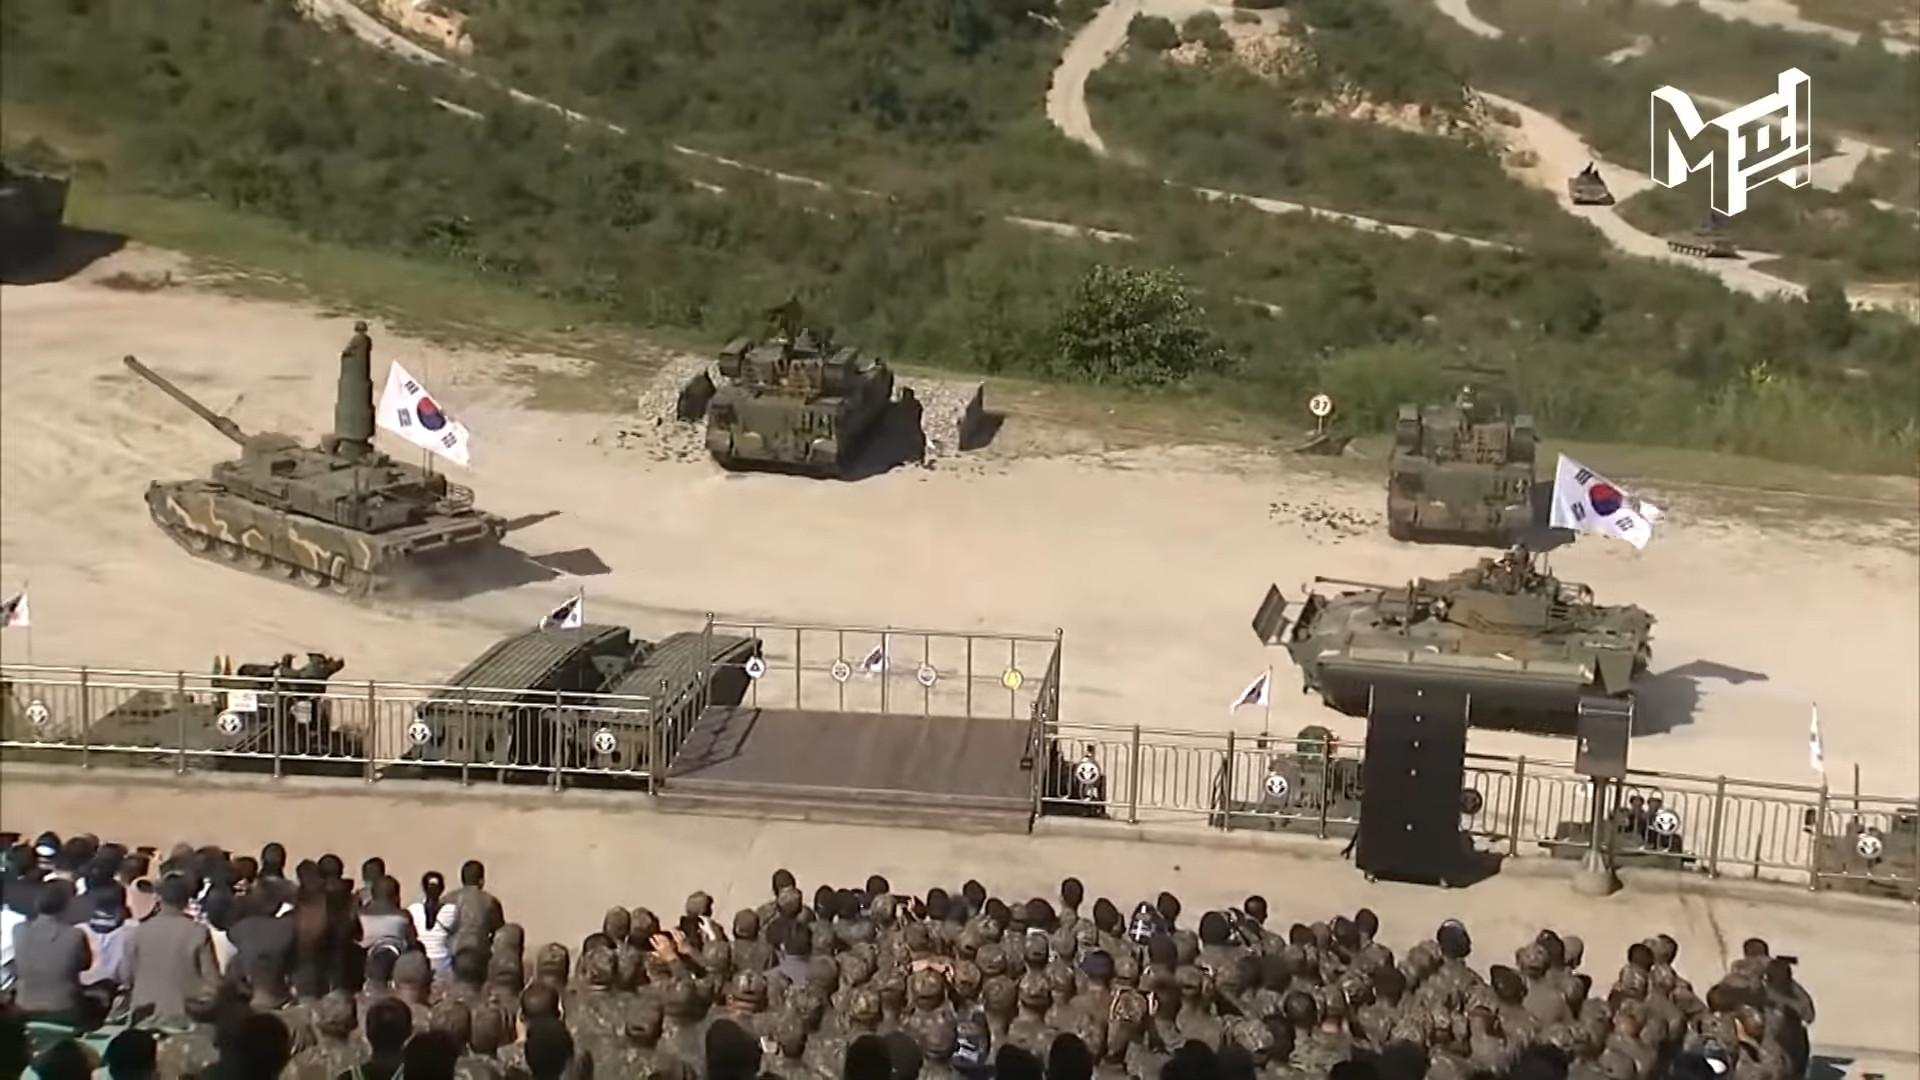tank: (125, 342, 509, 597), (1287, 545, 1656, 736), (707, 324, 894, 479), (1387, 384, 1540, 546)
